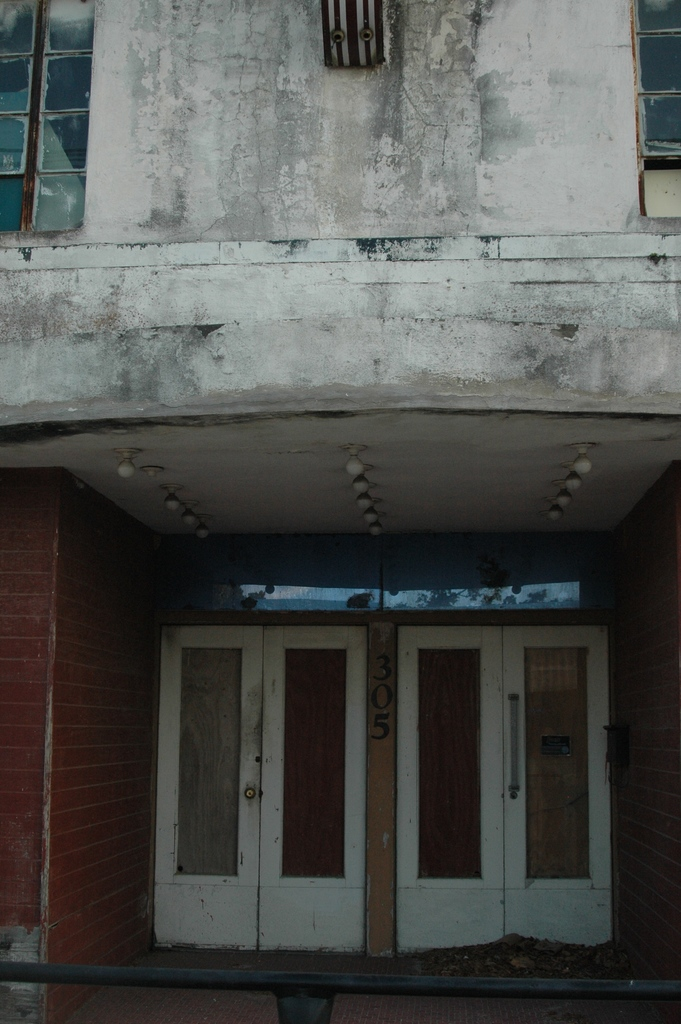Door: (152, 594, 410, 975), (400, 624, 610, 948)
